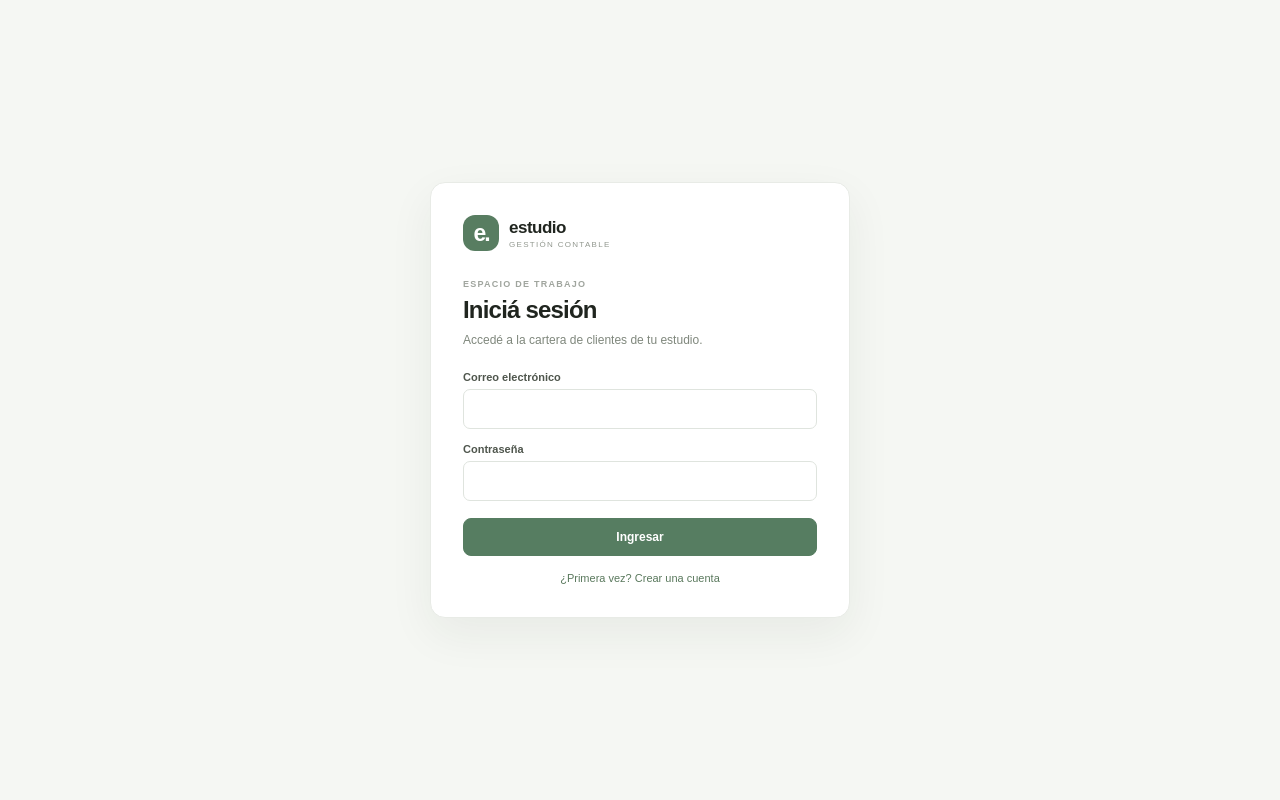
Test: gestión de clientes en Supabase › presenta el acceso cuando no hay sesión y entra tras autenticar
Type "user@example.invalid" into the field labelled "Correo electrónico" at (640, 409), box x1=463 y1=389 x2=817 y2=429
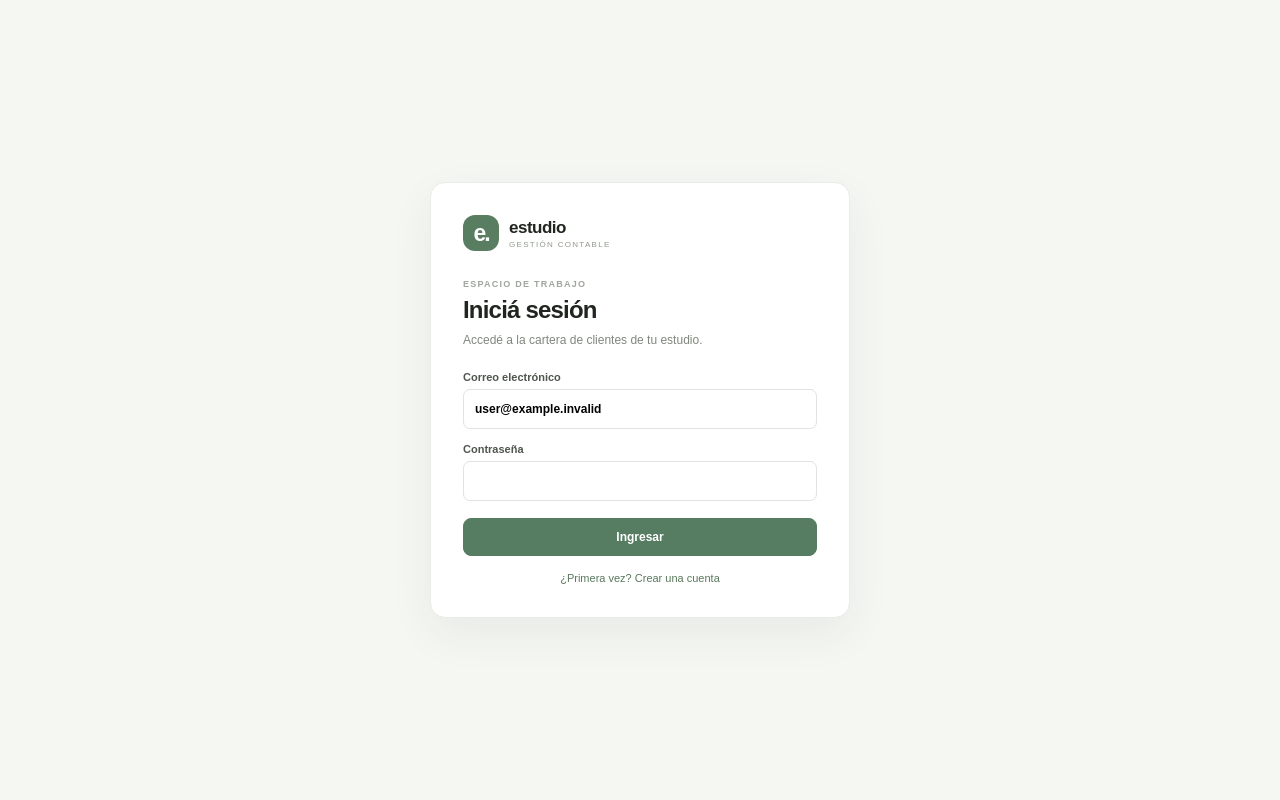
Type "test-password-only" into the password field labelled "Contraseña" at (640, 481), box x1=463 y1=461 x2=817 y2=501
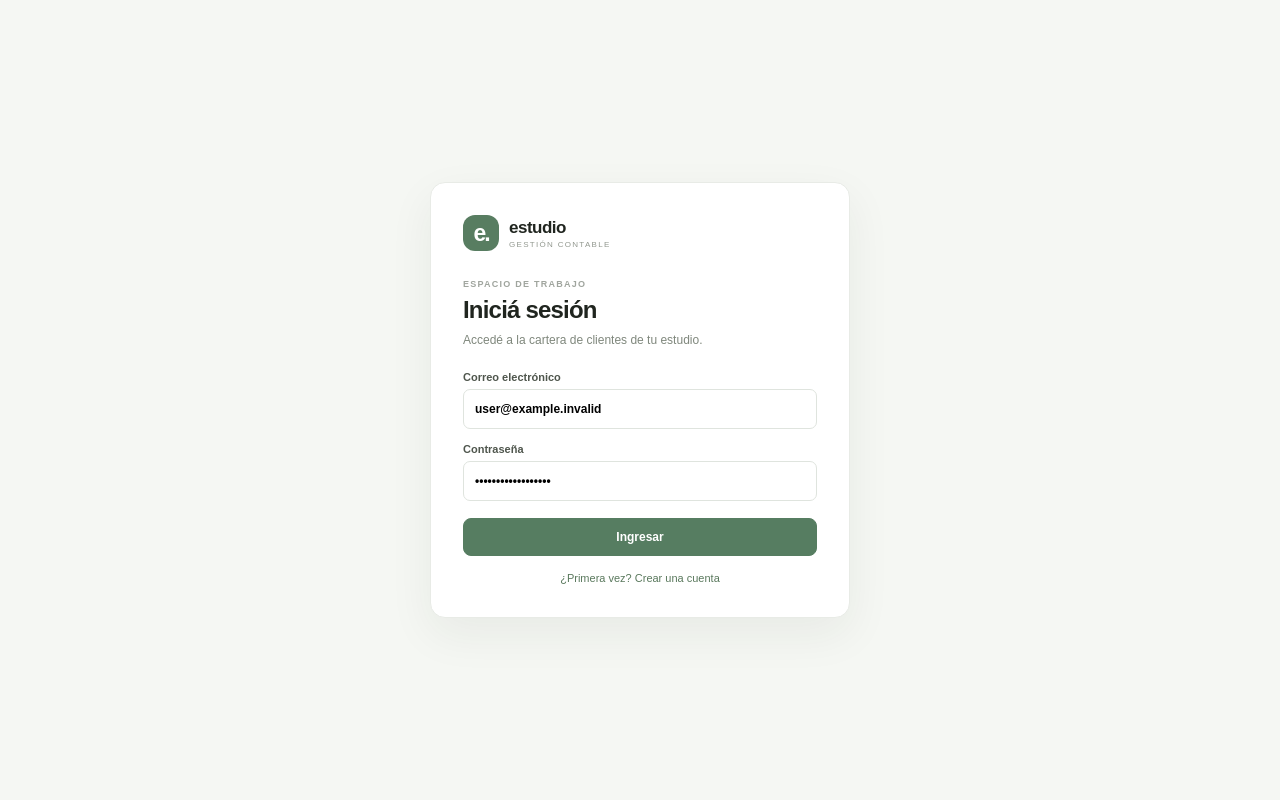
Click the button "Ingresar" at (640, 537), box x1=463 y1=518 x2=817 y2=556
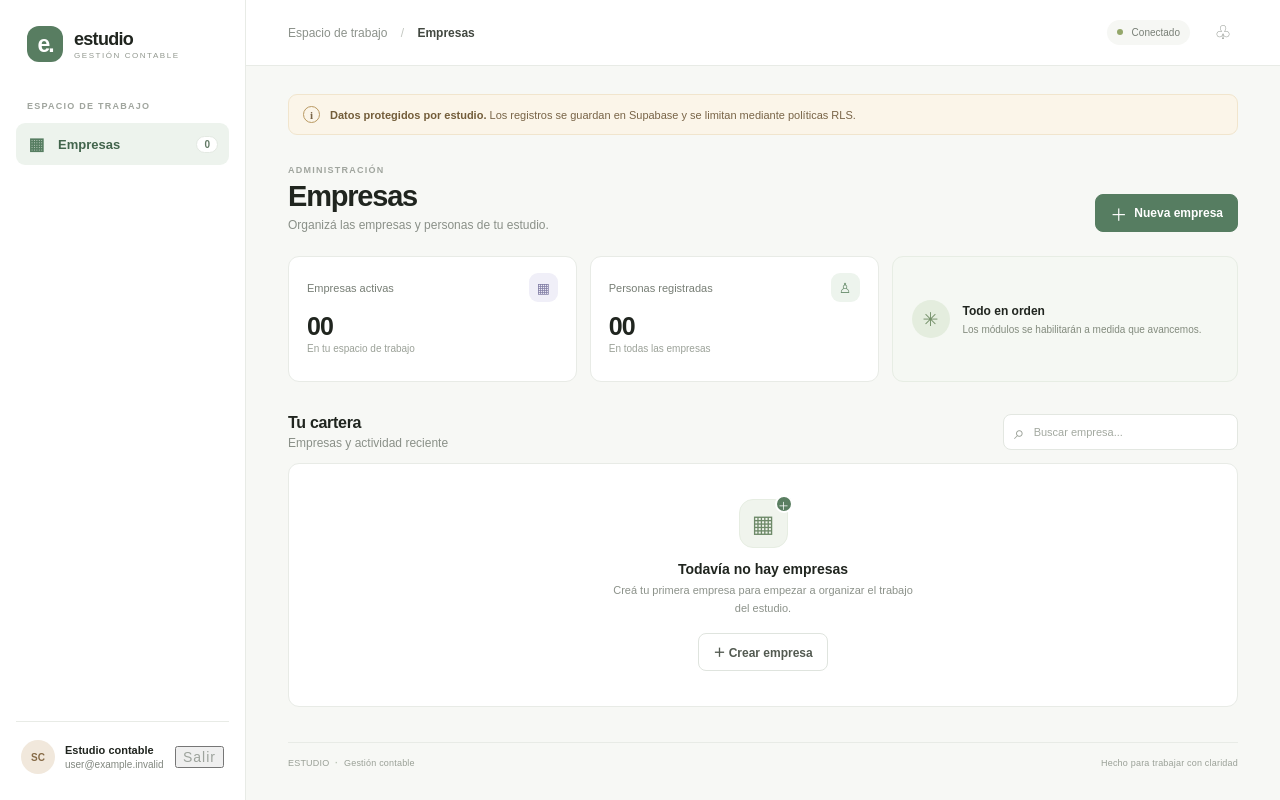
Expected: the heading "Todavía no hay empresas" is shown, x1=678 y1=561 x2=848 y2=577
